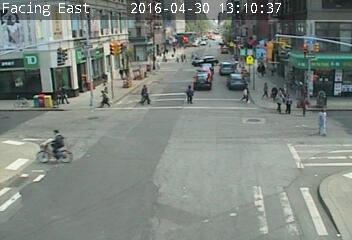neg: (30, 118, 70, 172), (1, 13, 24, 46), (91, 44, 106, 63), (52, 48, 66, 66), (74, 31, 86, 46), (34, 45, 44, 58)
pos: (310, 107, 335, 140), (180, 81, 200, 108), (258, 81, 273, 101), (237, 84, 252, 103)
